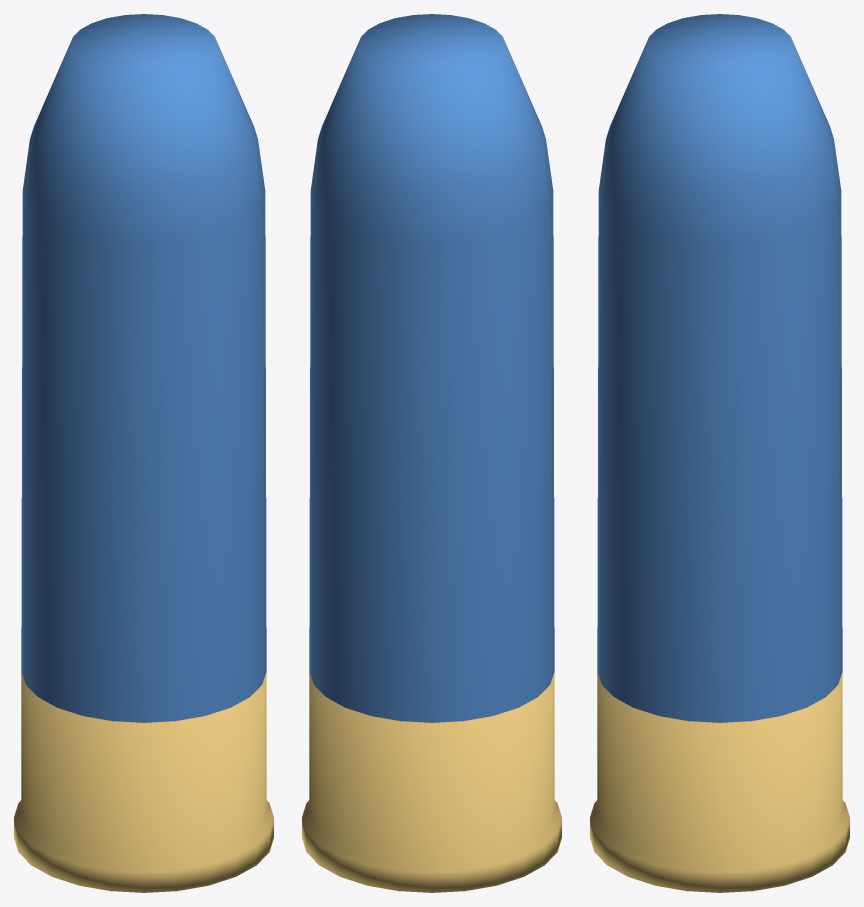
3 renders of one model, left to right at view 1: azimuth 30°, elevation 25°; view 2: azimuth 150°, elevation 25°; view 3: azimuth 270°, elevation 25°, orthographic.
Visible parts, largest first — view 1: cuerpo, culote; view 2: cuerpo, culote; view 3: cuerpo, culote.
Boxes of the visible parts, bbox=[...] form: cuerpo: bbox=[21, 14, 266, 722]; culote: bbox=[14, 671, 273, 892]; cuerpo: bbox=[309, 14, 554, 722]; culote: bbox=[302, 671, 561, 892]; cuerpo: bbox=[597, 14, 842, 722]; culote: bbox=[590, 671, 849, 892].
Size of the model in its own units: 0.0226 by 0.076 by 0.0226.
